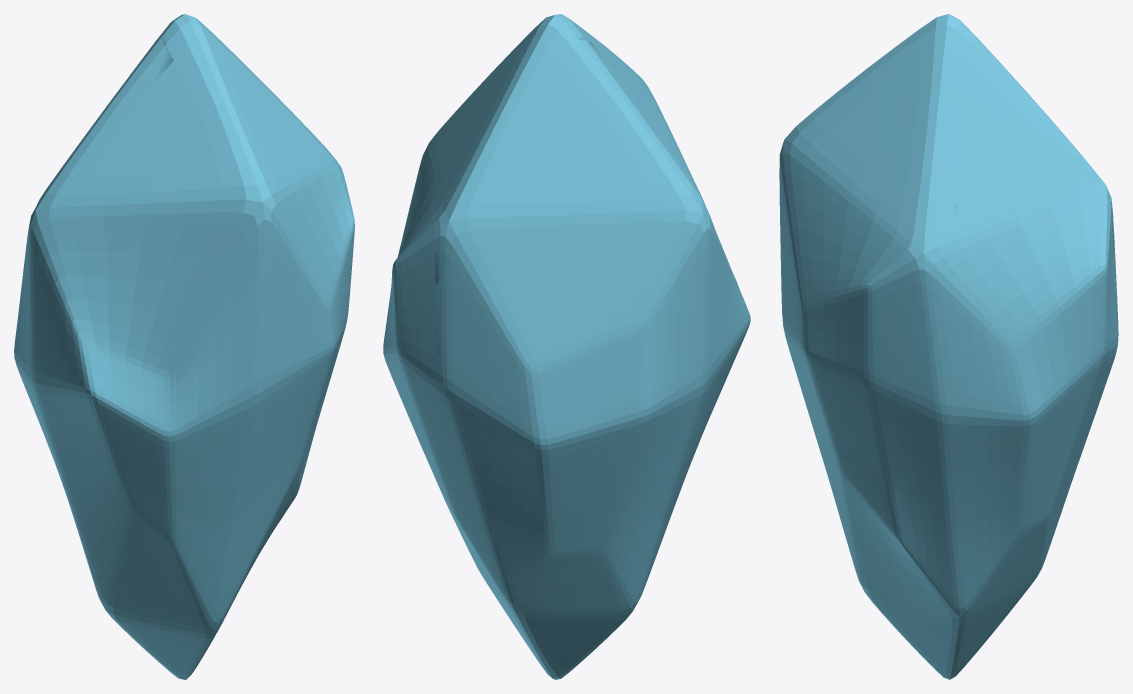
Rendered from Crystal.fbx.
The picture shows the model from 3 angles, left to right: view 1: azimuth 30°, elevation 25°; view 2: azimuth 150°, elevation 25°; view 3: azimuth 270°, elevation 25°; orthographic projection.
Parts seen in each view (by area): view 1: Crystal; view 2: Crystal; view 3: Crystal.
Boxes of the visible parts, box(x1,y1,x2,y2) form: Crystal: box(14, 14, 354, 679); Crystal: box(383, 14, 750, 679); Crystal: box(779, 14, 1118, 679).
Bounding box in the file's own units: 233 × 497 × 230.
